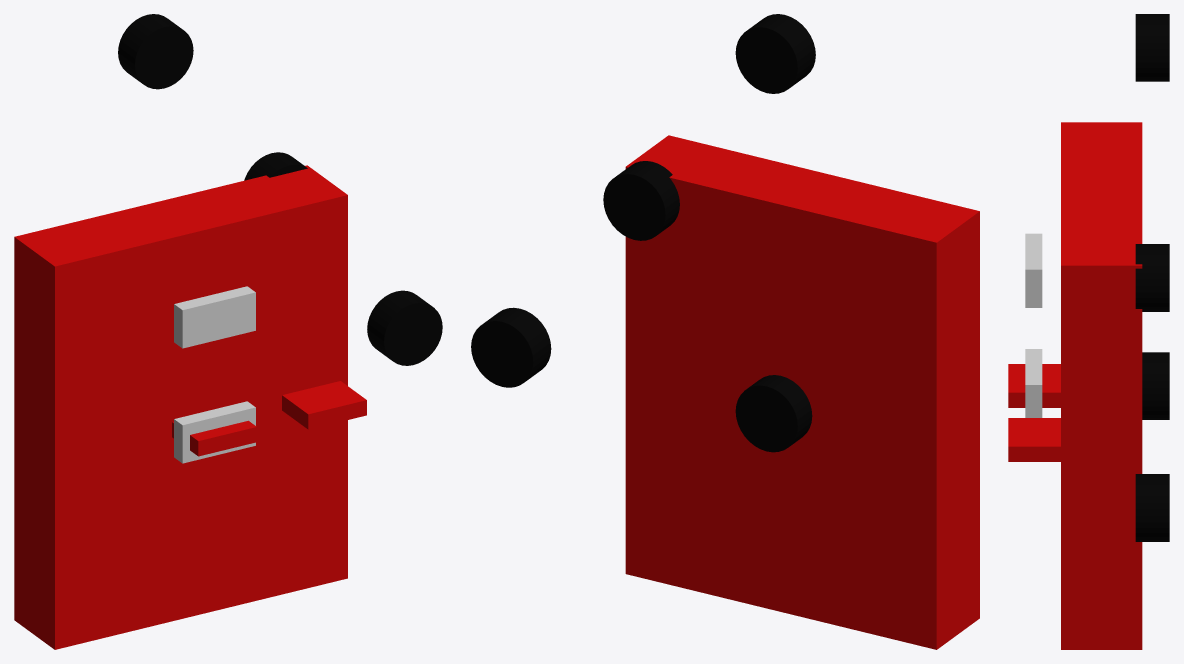
File: red_car_v1.glb
The picture shows the model from 3 angles, left to right: view 1: azimuth 30°, elevation 25°; view 2: azimuth 150°, elevation 25°; view 3: azimuth 270°, elevation 25°; orthographic projection. The views are drawn at different scales.
Parts seen in each view (by area): view 1: body, wheel_front_right, wheel_rear_left, window_front, door_front, window_rear, door_rear, wheel_front_left; view 2: body, wheel_rear_left, wheel_front_right, wheel_front_left, wheel_rear_right; view 3: body, wheel_front_right, wheel_rear_left, wheel_front_left, door_front, wheel_rear_right, door_rear, window_front, window_rear.
Boxes of the visible parts, x1,y1,x2,y2 form: body: (14,165,347,649); wheel_front_right: (118,14,193,89); wheel_rear_left: (367,290,442,365); window_front: (174,286,255,348); door_front: (282,381,366,429); window_rear: (174,401,255,463); door_rear: (172,420,256,456); wheel_front_left: (244,152,307,180); body: (625,135,979,649); wheel_rear_left: (471,307,551,387); wheel_front_right: (735,14,815,93); wheel_front_left: (603,161,679,240); wheel_rear_right: (735,375,812,452); body: (1061,122,1142,649); wheel_front_right: (1135,14,1169,81); wheel_rear_left: (1135,474,1169,541); wheel_front_left: (1135,244,1169,311); door_front: (1008,418,1060,461); wheel_rear_right: (1142,352,1169,419); door_rear: (1008,364,1060,407); window_front: (1025,233,1042,307); window_rear: (1025,349,1042,417).
Bounding box in the file's own units: 580 × 730 × 190.
